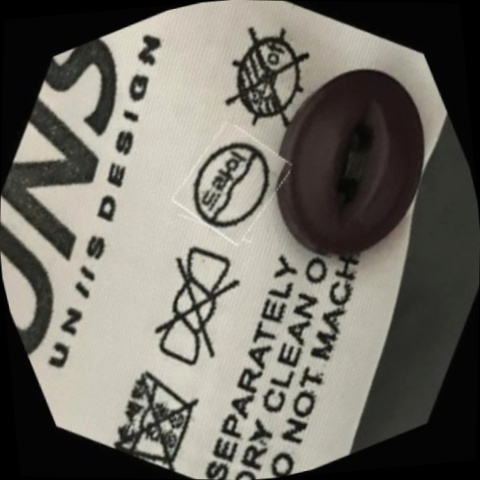DN_dry: (202, 12, 334, 145)
DN_wring: (123, 234, 271, 383)
dry_clean: (173, 124, 293, 246)
hand_wash: (92, 347, 219, 480)
